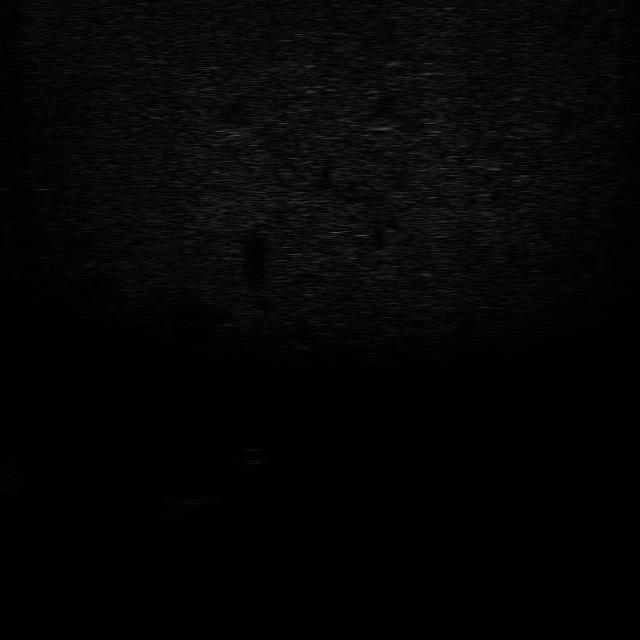ball: (220, 445, 275, 479)
square cage: (138, 483, 228, 527)
